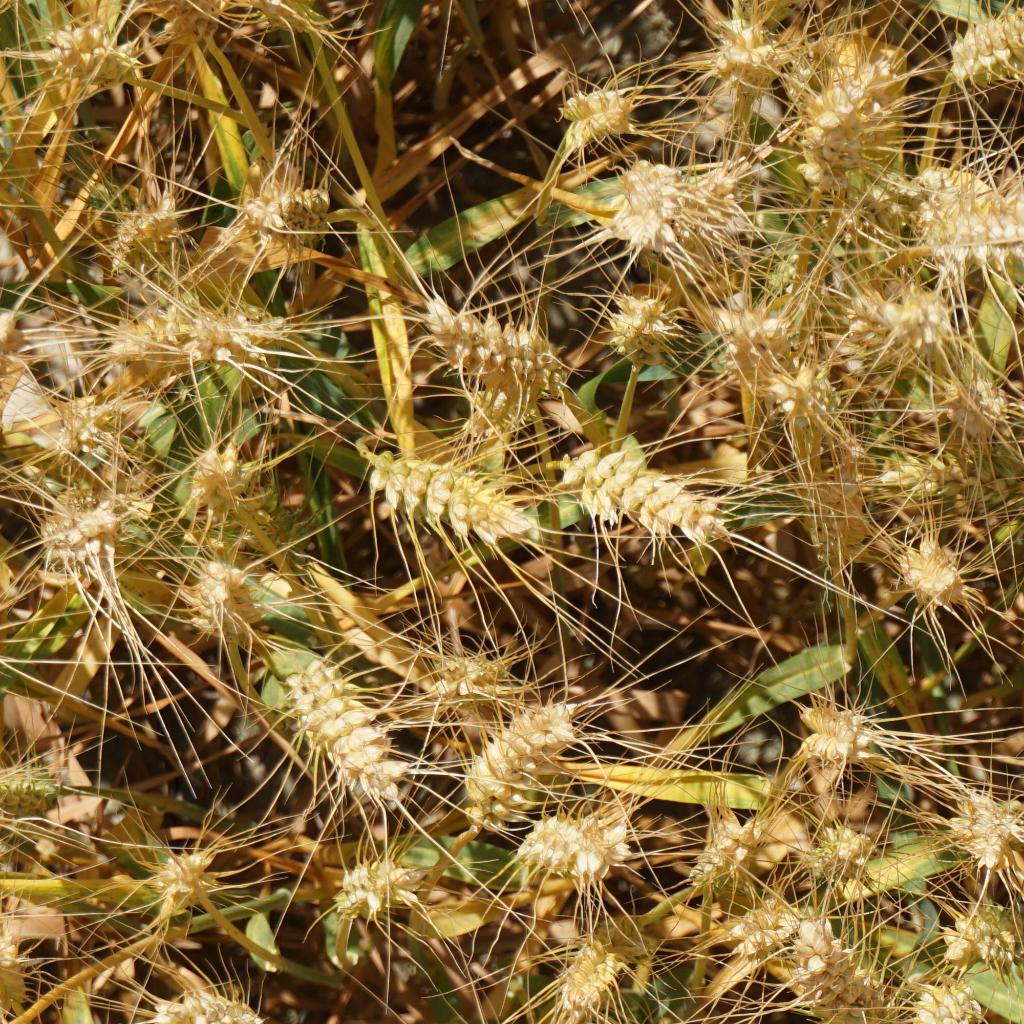0-0: (273, 645, 412, 800), (344, 433, 542, 540), (559, 446, 740, 561), (446, 691, 572, 828), (409, 291, 559, 404), (543, 908, 662, 1022), (902, 185, 1024, 291), (788, 61, 906, 154), (773, 21, 860, 136), (222, 181, 342, 258), (521, 806, 629, 890), (792, 466, 872, 579), (936, 0, 1024, 102), (837, 289, 967, 355), (322, 854, 424, 937), (791, 922, 886, 1010), (34, 482, 125, 569), (174, 553, 264, 640), (32, 20, 146, 88), (181, 301, 306, 363), (689, 808, 768, 905), (605, 156, 690, 245), (547, 76, 637, 160), (790, 696, 888, 771), (934, 796, 1024, 877), (98, 180, 178, 267), (840, 147, 922, 229), (604, 279, 675, 373), (701, 18, 783, 96), (709, 288, 773, 387), (146, 842, 226, 921), (934, 360, 1010, 443), (0, 303, 38, 464), (939, 907, 1024, 978), (893, 534, 971, 611), (96, 293, 179, 359), (434, 647, 517, 713), (136, 986, 280, 1024), (724, 887, 805, 952), (440, 374, 532, 431), (683, 160, 745, 243), (773, 354, 842, 427), (756, 232, 824, 306), (885, 976, 986, 1024), (180, 445, 250, 512), (807, 827, 879, 891), (880, 450, 962, 501), (50, 389, 112, 453), (0, 760, 68, 816), (0, 928, 39, 1020)
